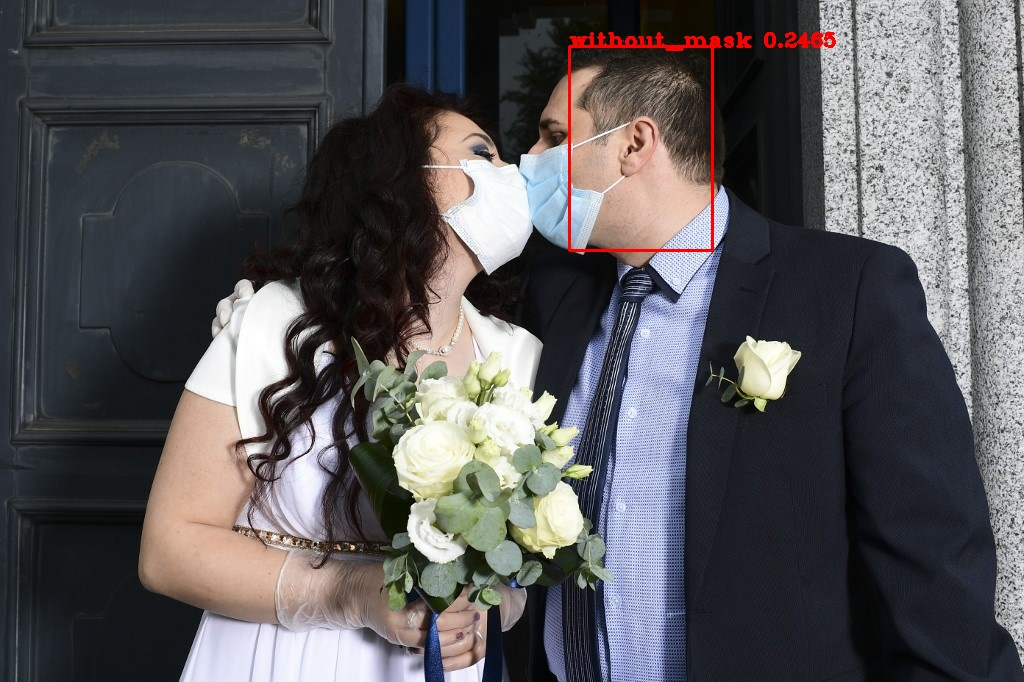with_mask: (508, 68, 696, 270), (372, 97, 539, 297)
